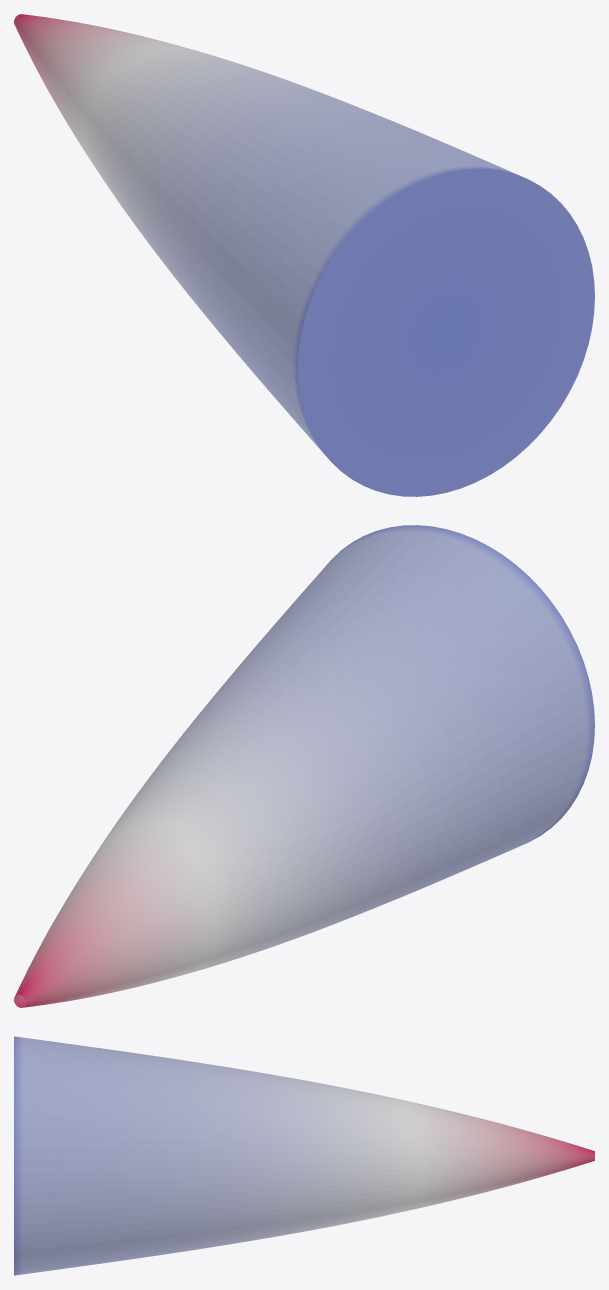
Rendered from frame_021_unlit.glb.
3 views of the same model, one above another, from view 1: azimuth 30°, elevation 25°; view 2: azimuth 150°, elevation 25°; view 3: azimuth 270°, elevation 25° (orthographic). The views are drawn at different scales.
Visible parts, largest first — view 1: geometry_0; view 2: geometry_0; view 3: geometry_0.
Boxes of the visible parts, x1,y1,x2,y2 form: geometry_0: (14, 14, 594, 496); geometry_0: (14, 525, 594, 1007); geometry_0: (14, 1036, 594, 1275).
Size of the model in its own units: 0.4025 by 0.4141 by 1.
